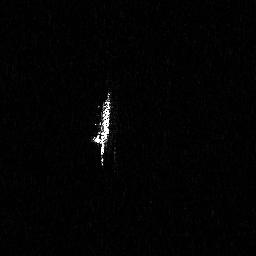ship: (90, 90, 112, 169)
